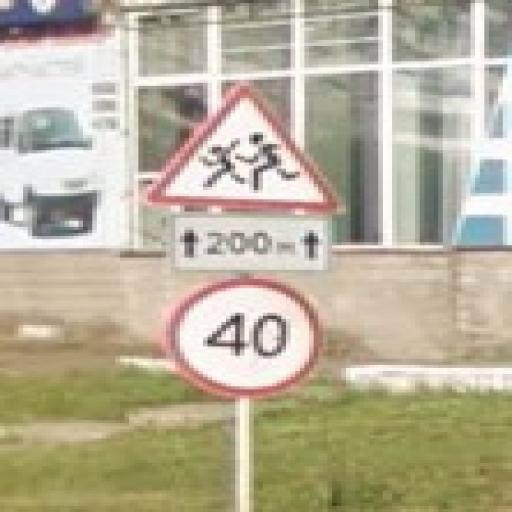traffic_sign: (149, 81, 342, 213), (163, 280, 329, 400)
